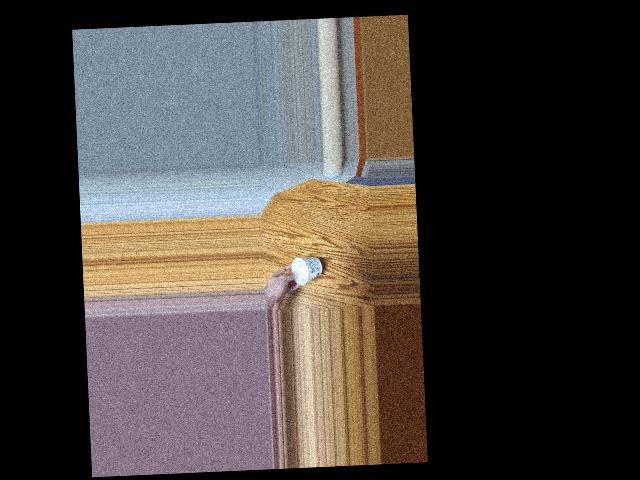cotage: (292, 253, 323, 284)
